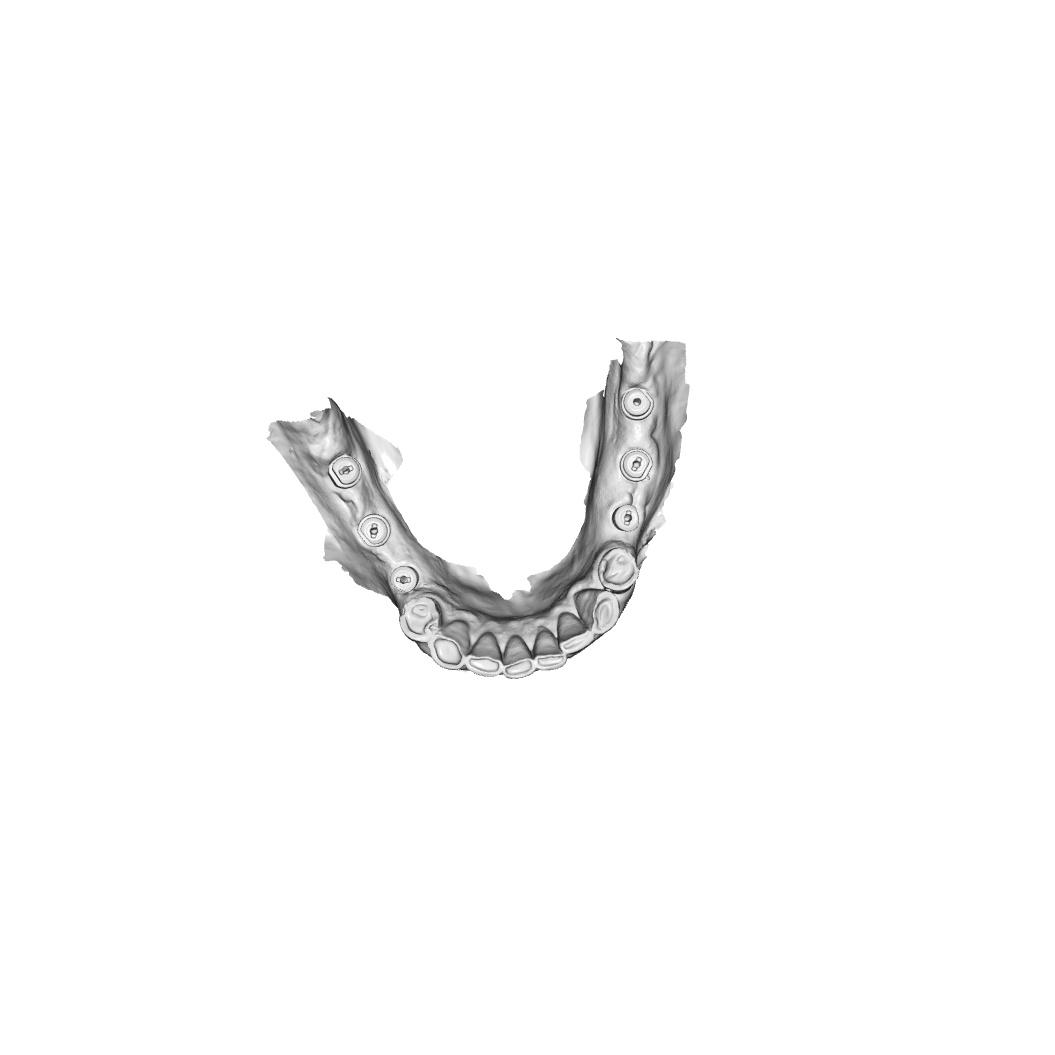canine: (573, 587, 621, 636), (426, 619, 471, 671)
implant: (621, 384, 655, 421)
implant_minus: (327, 452, 363, 490), (618, 448, 654, 484), (356, 513, 392, 548), (610, 503, 641, 534), (389, 564, 420, 594)
incisor: (465, 631, 503, 678), (556, 612, 594, 656), (533, 629, 568, 673), (502, 634, 535, 680)
premolar: (398, 594, 443, 644), (597, 547, 641, 595)
